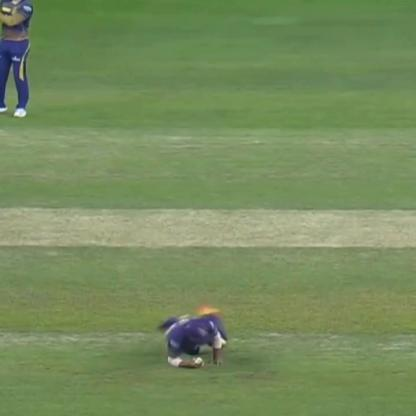ball: (194, 355, 206, 364)
